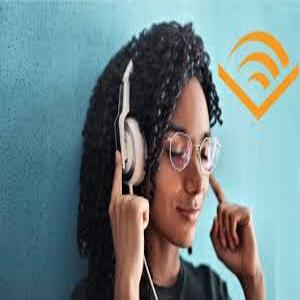Headphones: (112, 40, 158, 186)
